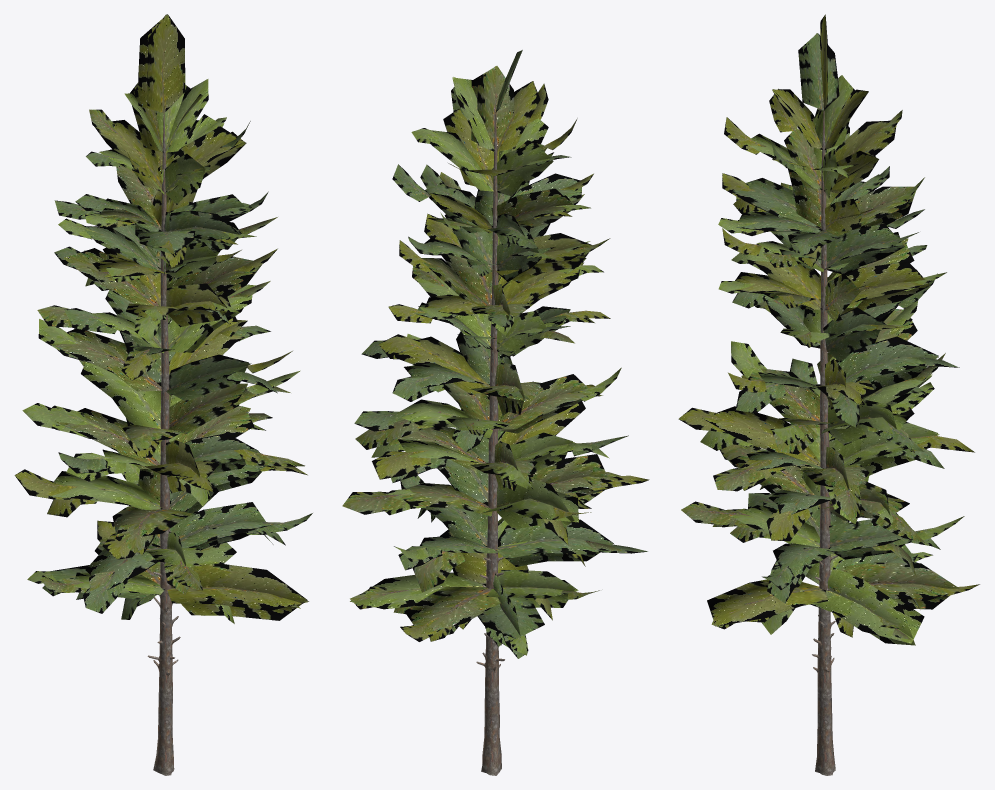
File: Spruce_Norway_Desktop_3_Forest_001_06f5d1.glb
3 views of the same model, side by side, from view 1: azimuth 30°, elevation 25°; view 2: azimuth 150°, elevation 25°; view 3: azimuth 270°, elevation 25° (orthographic).
Bounding box in the file's own units: 5.09 × 14.71 × 5.32.
Materials: 2 (2 with a texture image).
